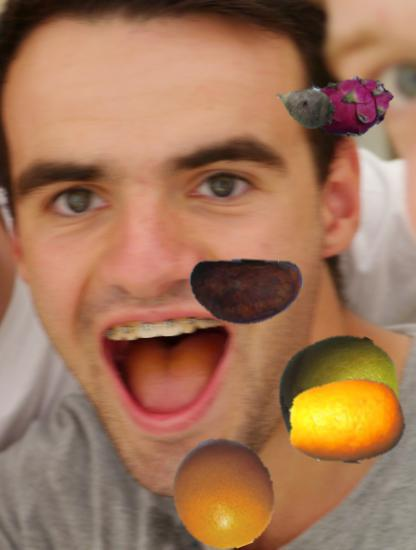Beetroot: (272, 75, 337, 140)
Chestnut: (189, 235, 303, 349)
Grapefruit: (168, 438, 280, 550)
Kumquats: (287, 361, 407, 481)
Pitahaya: (303, 62, 393, 152)
Pomelo: (272, 331, 404, 463)
